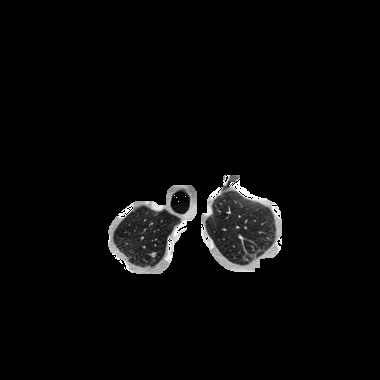PN: (151, 252, 155, 256)
